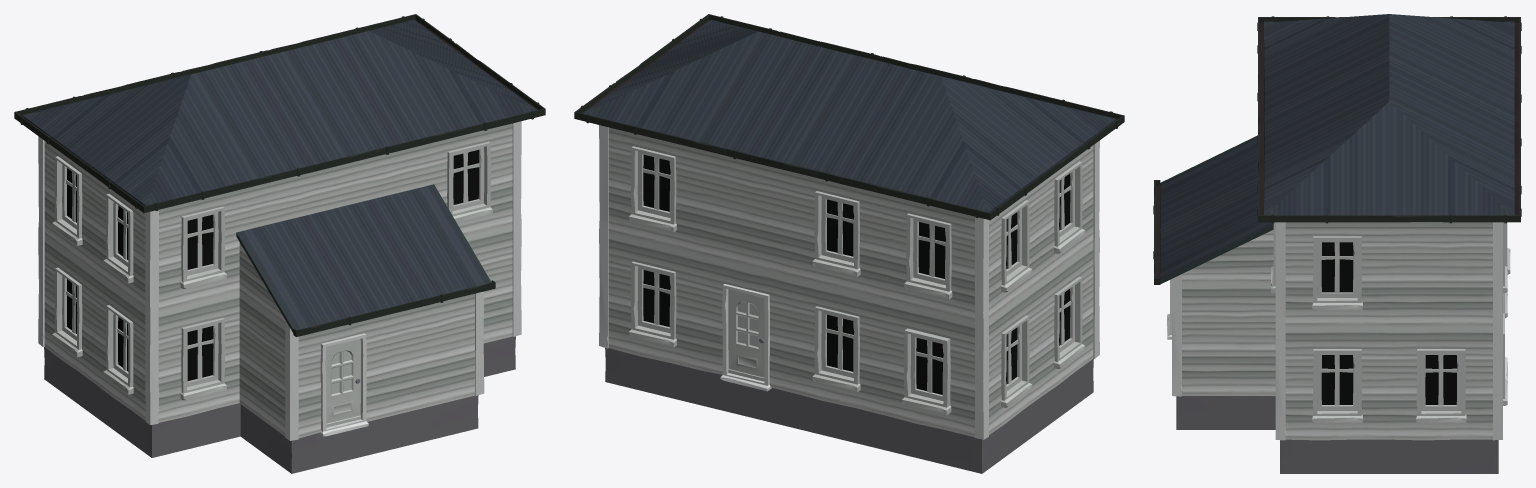
The model's file is Suburban House 2.glb.
3 views of the same model, side by side, from view 1: azimuth 30°, elevation 25°; view 2: azimuth 150°, elevation 25°; view 3: azimuth 270°, elevation 25° (orthographic). The views are drawn at different scales.
Parts seen in each view (by area): view 1: suburban-house_2; view 2: suburban-house_2; view 3: suburban-house_2.
Boxes of the visible parts, x1,y1,x2,y2 form: suburban-house_2: (14,14,545,473); suburban-house_2: (574,14,1124,473); suburban-house_2: (1153,14,1521,473).
Bounding box in the file's own units: 1 × 0.7625 × 0.7801.
1 material, 1 textured.
